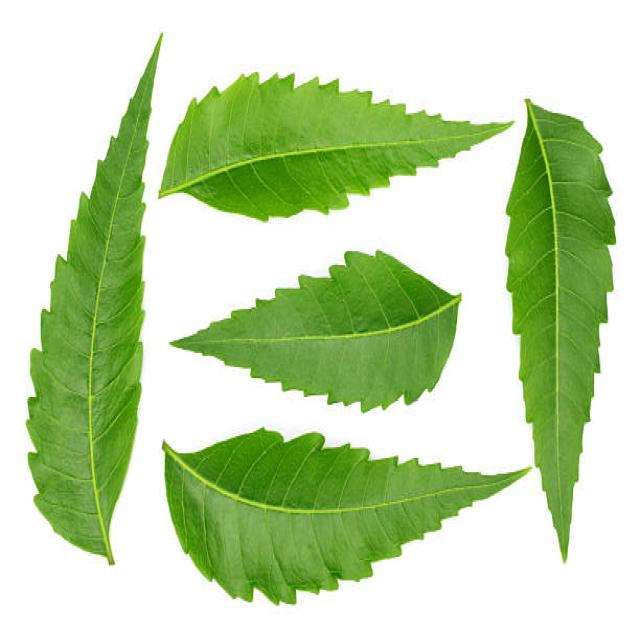Neem-Tree: (28, 41, 159, 562), (164, 429, 525, 603), (160, 75, 506, 220), (508, 101, 615, 556), (175, 253, 460, 411)
